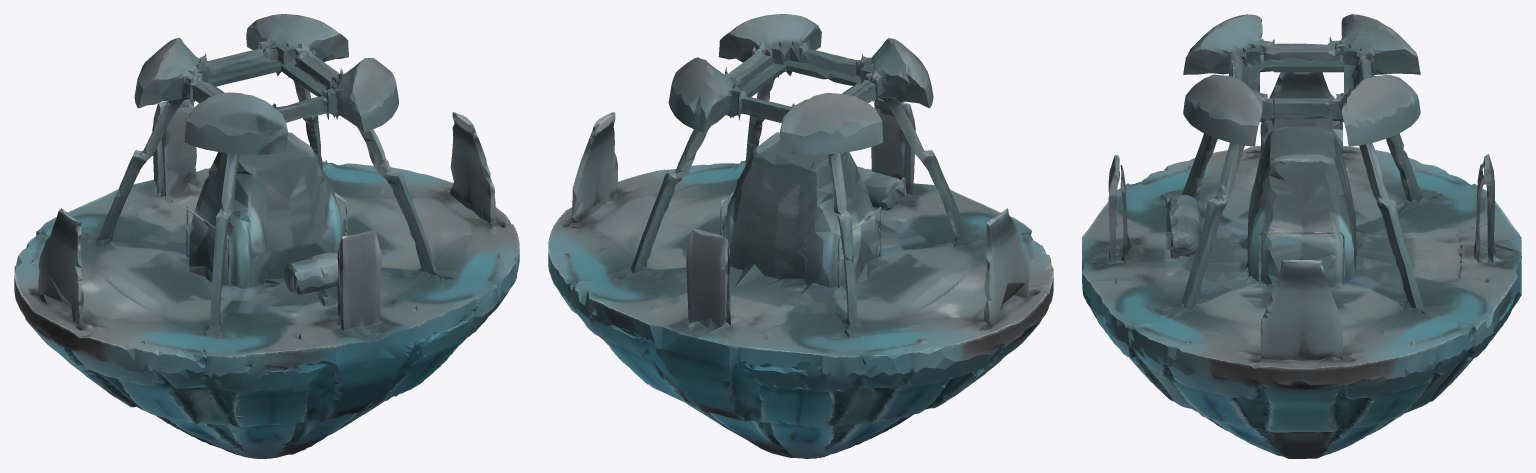
File: nova_cockpit.glb
3 views of the same model, side by side, from view 1: azimuth 30°, elevation 25°; view 2: azimuth 150°, elevation 25°; view 3: azimuth 270°, elevation 25° (orthographic).
Parts seen in each view (by area): view 1: nova_cockpit; view 2: nova_cockpit; view 3: nova_cockpit.
Part boxes in pixels (bbox=[...]): nova_cockpit: bbox=[14, 14, 519, 458]; nova_cockpit: bbox=[548, 14, 1053, 458]; nova_cockpit: bbox=[1082, 14, 1521, 458].
Bounding box in the file's own units: 1.89 × 1.57 × 1.57.
1 material, 1 textured.
